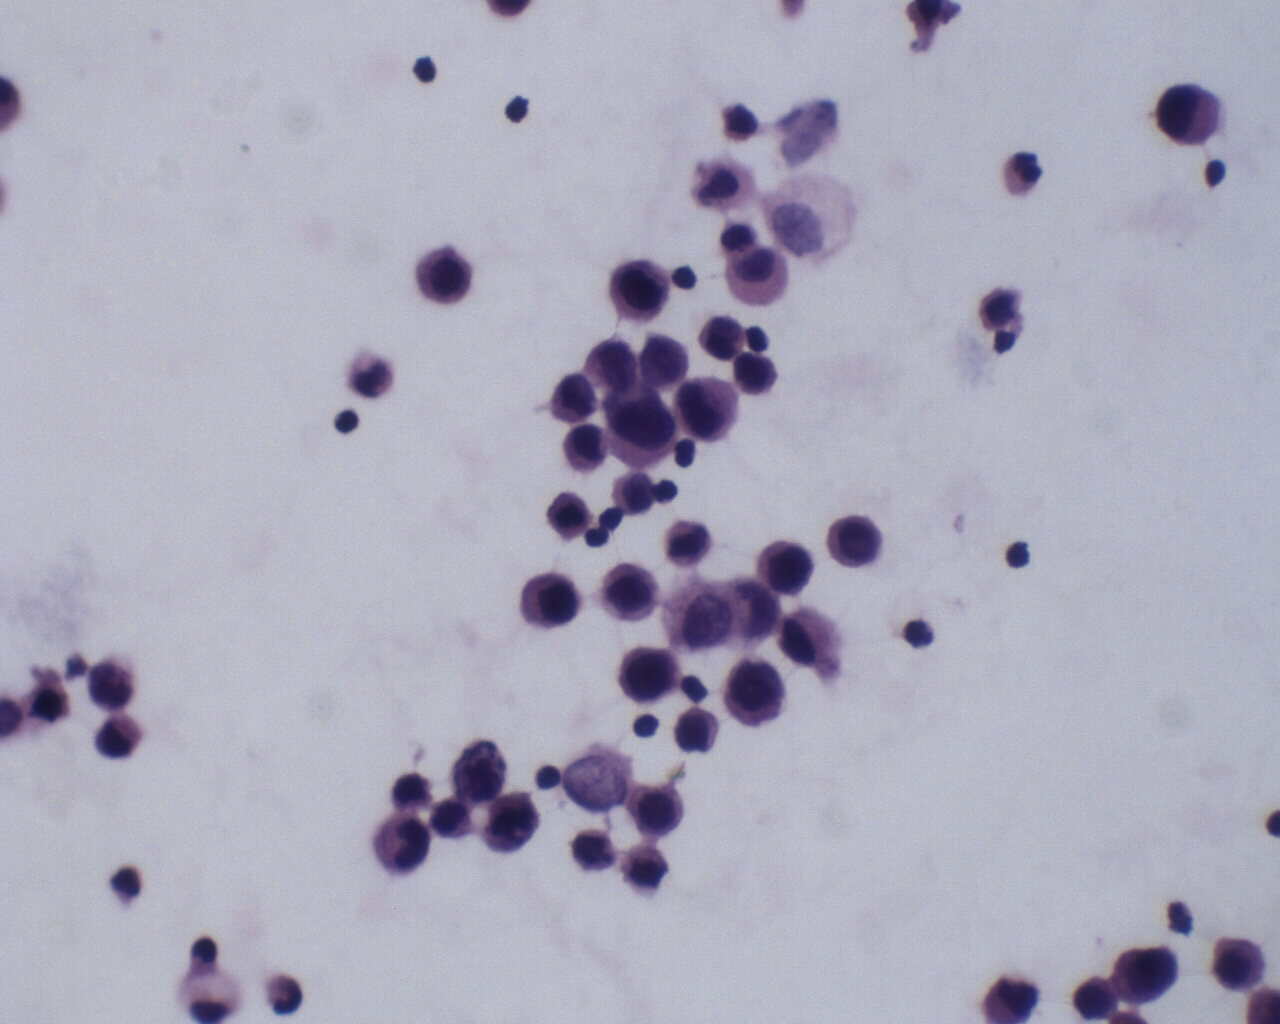ab: (603, 387, 680, 469), (480, 784, 546, 862), (597, 557, 665, 630), (673, 374, 741, 447), (1155, 82, 1225, 152), (721, 656, 788, 729), (607, 255, 675, 325), (751, 536, 818, 606), (415, 237, 478, 310), (374, 807, 435, 881), (1113, 939, 1180, 1006), (614, 638, 679, 706), (1206, 929, 1271, 997), (519, 569, 585, 635), (638, 331, 698, 393), (624, 782, 686, 836), (827, 513, 883, 571), (616, 840, 672, 897), (84, 660, 139, 715), (563, 421, 614, 475), (548, 371, 599, 424), (671, 703, 722, 754), (91, 709, 142, 761), (566, 825, 616, 877), (699, 315, 748, 364), (734, 351, 784, 399)
lymph: (330, 398, 365, 440)
meso: (727, 248, 798, 309)
neutro: (996, 142, 1043, 199)
